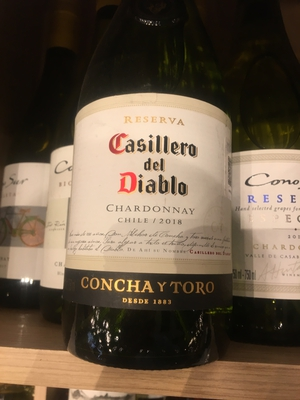casillero del diablo chardonnay: (66, 40, 235, 364)
